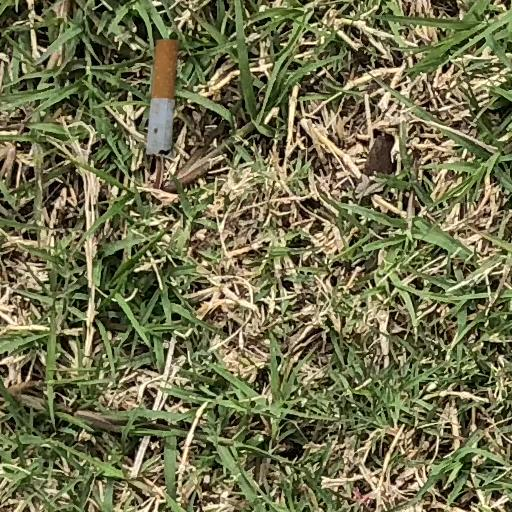smoke: (146, 40, 178, 157)
